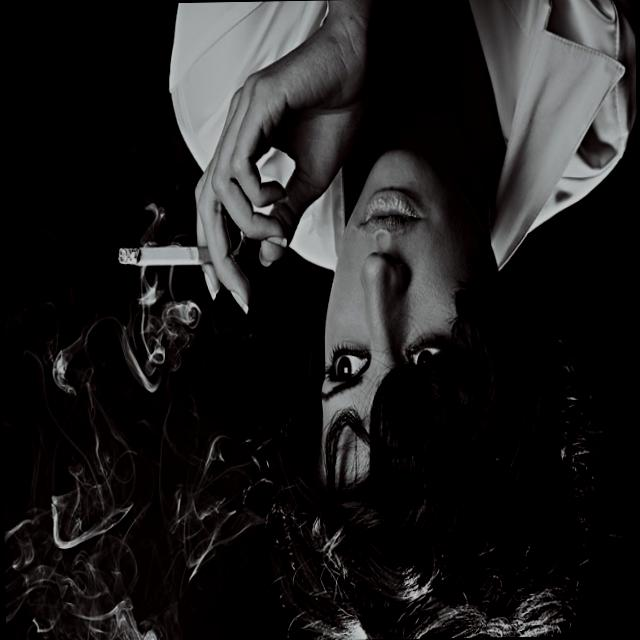smoke: (116, 245, 202, 270)
